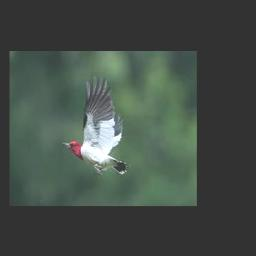Woodpecker: (62, 75, 130, 175)
